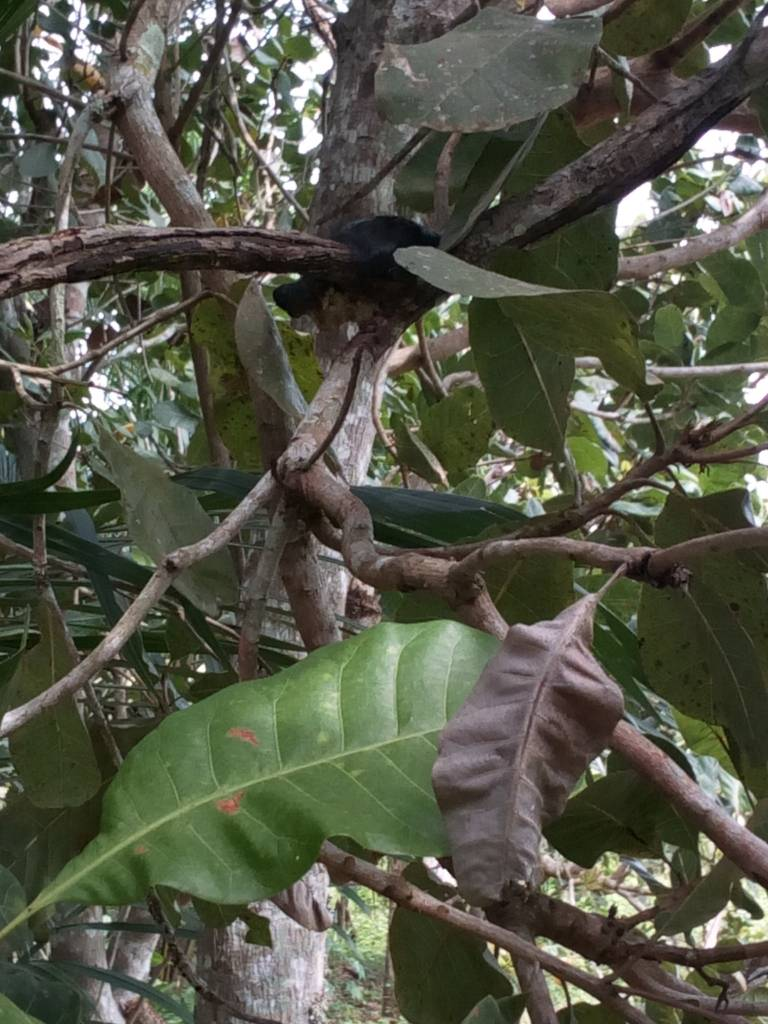Alternariose: (93, 628, 472, 917)
